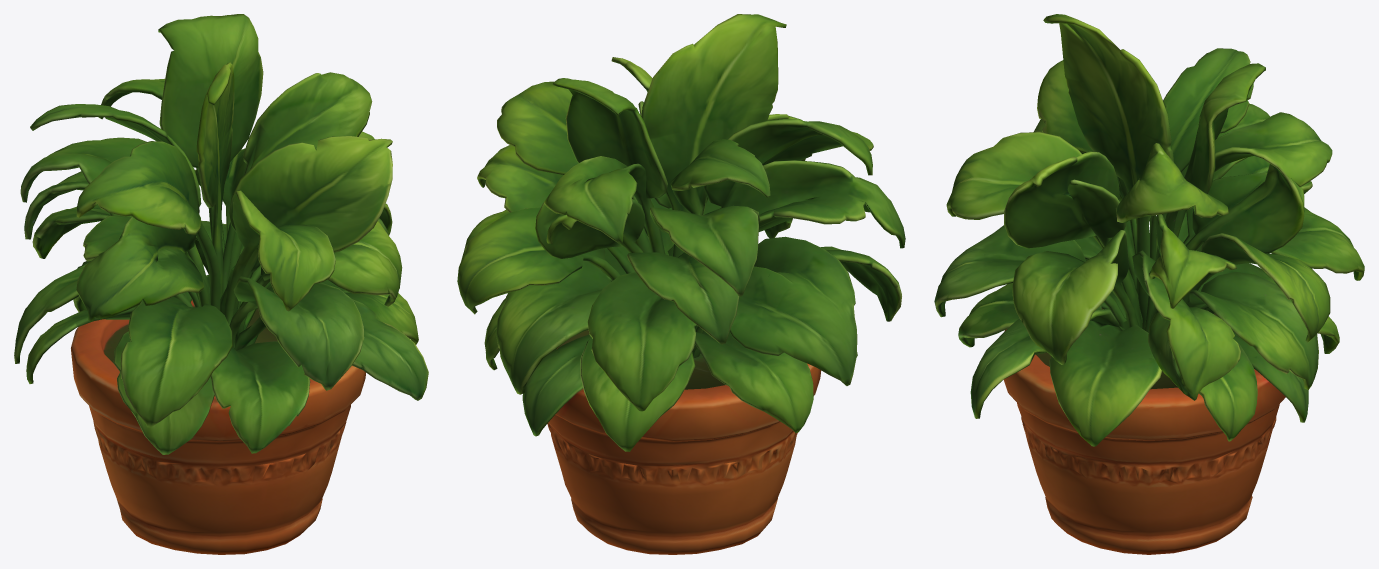
The model's file is potted_plant.glb.
3 renders of one model, left to right at view 1: azimuth 30°, elevation 25°; view 2: azimuth 150°, elevation 25°; view 3: azimuth 270°, elevation 25°, orthographic.
Visible parts, largest first — view 1: tripo_node_c491e2c2-fa4e-4915-8073-b2c277e68fe5; view 2: tripo_node_c491e2c2-fa4e-4915-8073-b2c277e68fe5; view 3: tripo_node_c491e2c2-fa4e-4915-8073-b2c277e68fe5.
Boxes of the visible parts, x1,y1,x2,y2 form: tripo_node_c491e2c2-fa4e-4915-8073-b2c277e68fe5: [14, 14, 428, 554]; tripo_node_c491e2c2-fa4e-4915-8073-b2c277e68fe5: [457, 14, 905, 554]; tripo_node_c491e2c2-fa4e-4915-8073-b2c277e68fe5: [934, 14, 1364, 554].
Bounding box in the file's own units: 0.8128 × 0.9773 × 0.7937.
1 material, 1 textured.
